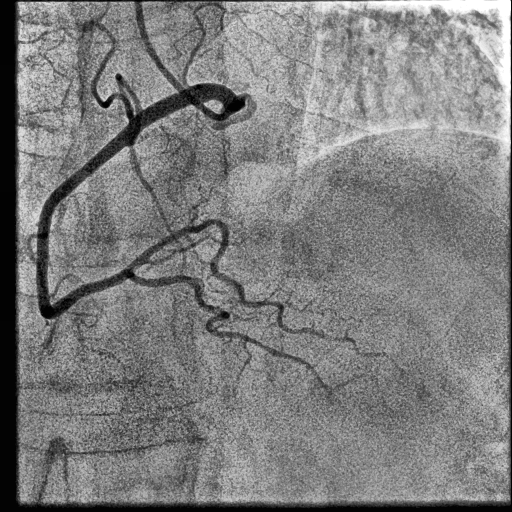pborca: (127, 219, 359, 352)
pda: (131, 275, 327, 387)
rca: (36, 83, 236, 319)
